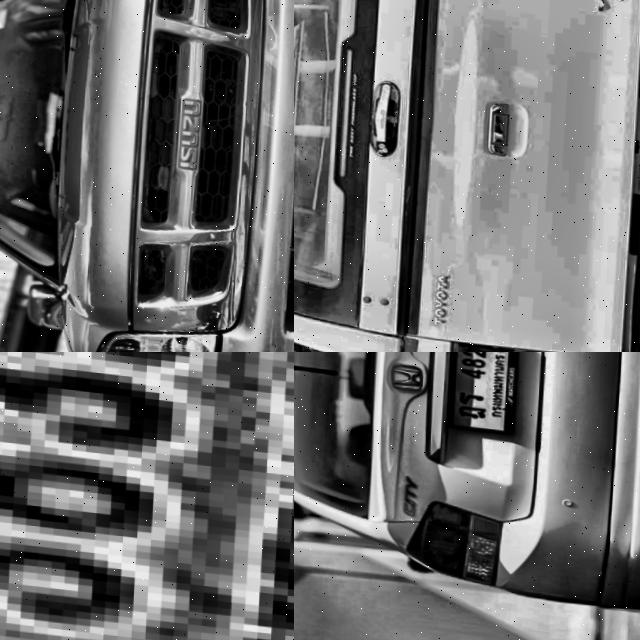license-plate: (0, 352, 294, 640), (436, 352, 527, 431)
